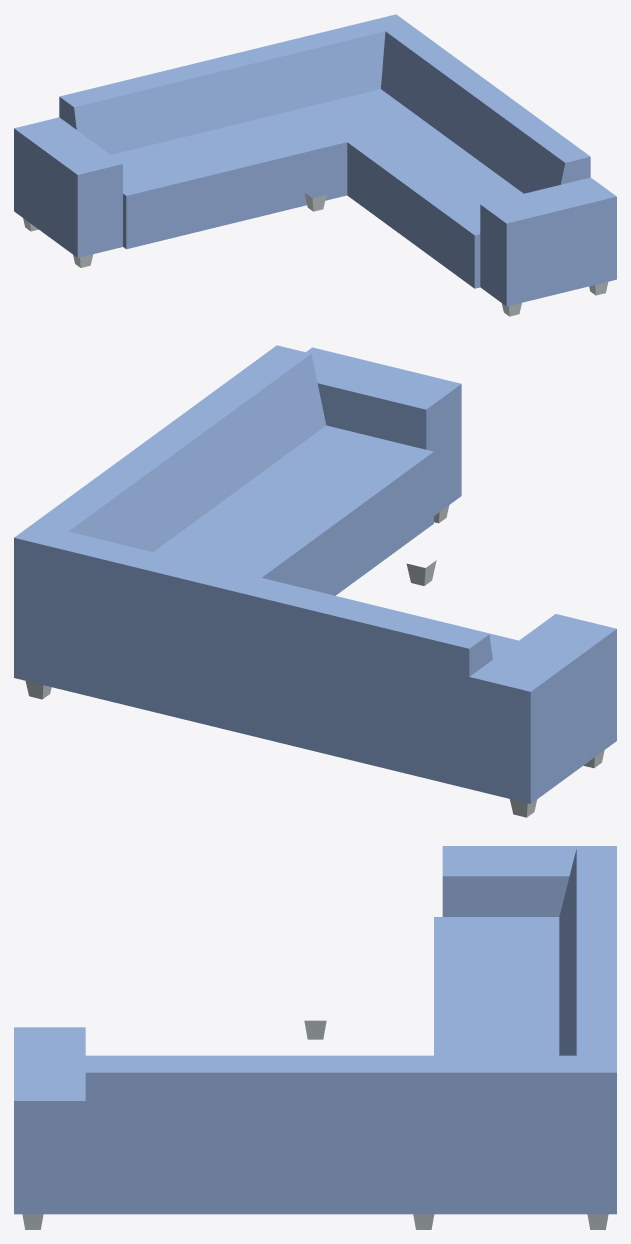
File: loungeDesignSofaCorner.glb
3 renders of one model, top to bottom at view 1: azimuth 30°, elevation 25°; view 2: azimuth 150°, elevation 25°; view 3: azimuth 270°, elevation 25°, orthographic. The views are drawn at different scales.
Parts seen in each view (by area): view 1: loungeDesignSofaCorner; view 2: loungeDesignSofaCorner; view 3: loungeDesignSofaCorner.
Part boxes in pixels (x1,y1,x2,y2): loungeDesignSofaCorner: (14,14,616,316); loungeDesignSofaCorner: (14,345,616,817); loungeDesignSofaCorner: (14,846,616,1229).
Size of the model in its own units: 4.05 by 1.2 by 4.05.
